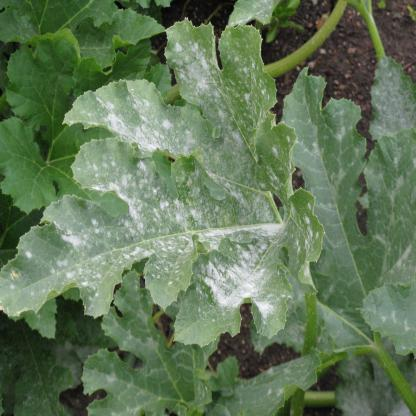squash powdery mildew leaf: (0, 14, 329, 347)
